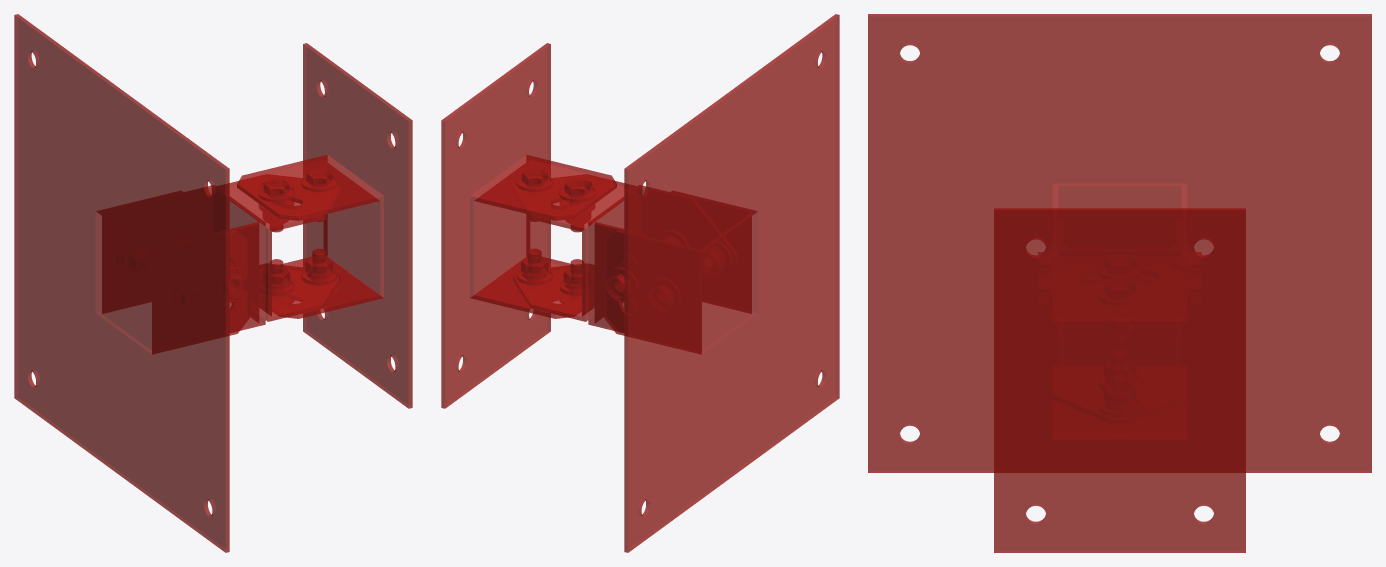
3 views of the same model, side by side, from view 1: azimuth 30°, elevation 25°; view 2: azimuth 150°, elevation 25°; view 3: azimuth 270°, elevation 25° (orthographic). The views are drawn at different scales.
Visible parts, largest first — view 1: 【小坂】自在金具2 (アセンブリ)2; view 2: 【小坂】自在金具2 (アセンブリ)2; view 3: 【小坂】自在金具2 (アセンブリ)2.
Part boxes in pixels (x1,y1,x2,y2): 【小坂】自在金具2 (アセンブリ)2: (14,14,412,552); 【小坂】自在金具2 (アセンブリ)2: (441,14,839,552); 【小坂】自在金具2 (アセンブリ)2: (868,14,1371,552).
Size of the model in its own units: 1.96 by 3 by 3.
